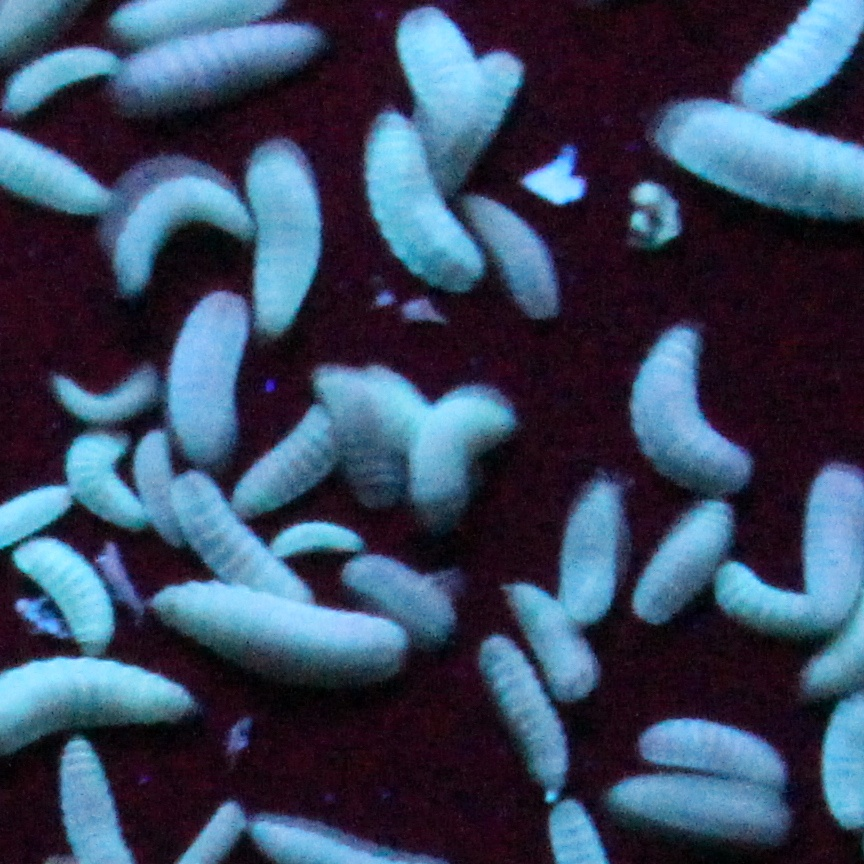larve: (156, 586, 405, 686), (721, 463, 862, 631), (361, 113, 484, 284), (621, 325, 744, 486), (108, 159, 241, 297), (120, 28, 313, 108), (249, 131, 320, 338), (195, 481, 313, 605), (484, 641, 569, 807), (413, 392, 516, 517), (464, 189, 559, 318), (318, 368, 402, 512), (502, 582, 598, 707), (615, 781, 790, 846), (18, 540, 112, 658), (172, 304, 241, 463), (230, 404, 335, 508), (400, 2, 459, 182), (641, 507, 735, 617), (639, 718, 794, 776), (554, 472, 612, 627), (344, 558, 454, 638), (67, 433, 133, 535), (3, 59, 116, 114), (46, 368, 157, 422), (141, 431, 189, 548), (271, 528, 374, 551)
